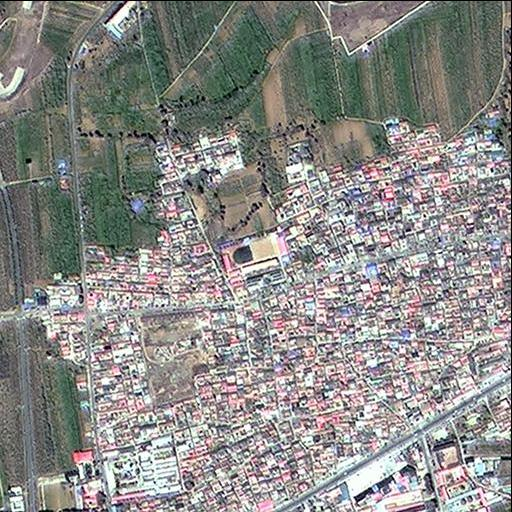school: (218, 227, 293, 290)
